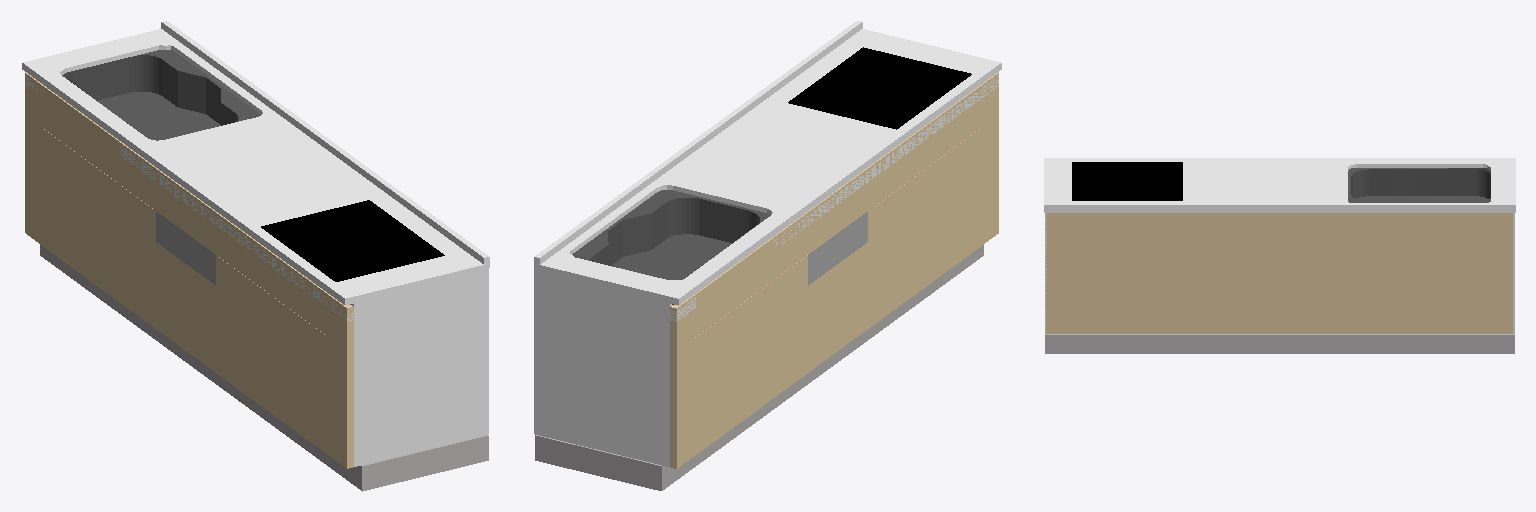
URDF robot description (room610-kitchen-0-robot):
<?xml version="1.0"?>
<robot name="room610-kitchen-0-robot"
       xmlns:xi="http://www.w3.org/2001/XInclude"
       >
  <gazebo>
    <static>false</static>
  </gazebo>
  <link name="nil_link">
    <visual>
      <origin xyz="0 0 0" rpy="0 -0 0"/>
      <geometry>
        <mesh filename="model://room610-kitchen-0/meshes/nil_link_mesh.dae" scale="1 1 1" />
      </geometry>
    </visual>
    <collision>
      <origin xyz="0 0 0" rpy="0 -0 0"/>
      <geometry>
        <mesh filename="model://room610-kitchen-0/meshes/nil_link_mesh.dae" scale="1 1 1" />
      </geometry>
    </collision>
    <inertial>
      <mass value="0.001" />
      <origin xyz="0 0 0" rpy="0 -0 0"/>
      <inertia ixx="1e-03" ixy="0" ixz="0" iyy="1e-03" iyz="0" izz="1e-03"/>
    </inertial>
  </link>
  <gazebo reference="nil_link">
    <mu1>0.9</mu1>
    <mu2>0.9</mu2>
  </gazebo>
</robot>

--- What the picture shows (computed from the rendered views, not written in the file) ---
Views: 3 orthographic renders of the robot side by side, from view 1: azimuth 30°, elevation 25°; view 2: azimuth 150°, elevation 25°; view 3: azimuth 270°, elevation 25°.
Model room610-kitchen-0-robot with 1 links and 0 joints (none), rooted at nil_link, posed every joint at zero.
Links seen in each view (by area): view 1: nil_link; view 2: nil_link; view 3: nil_link.
Link boxes in pixels (x1,y1,x2,y2): nil_link: [22, 21, 489, 491]; nil_link: [534, 21, 1001, 490]; nil_link: [1044, 158, 1515, 353].
Bounding box of the posed robot: 0.66 × 2.55 × 0.89 m (x, y, z).
1 mesh visuals loaded from 1 distinct referenced files (1 Collada DAE).